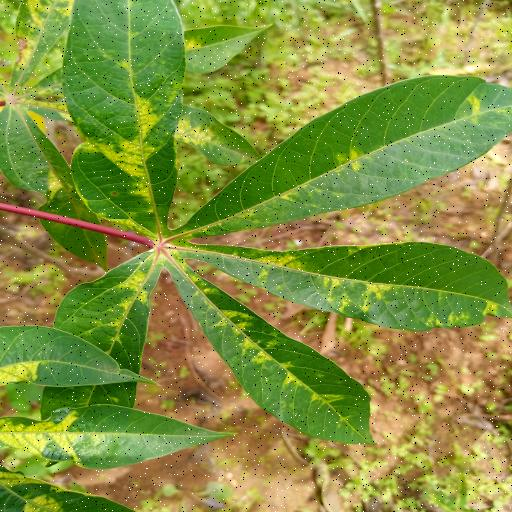Cassava_Mosaic: (34, 0, 512, 467)
